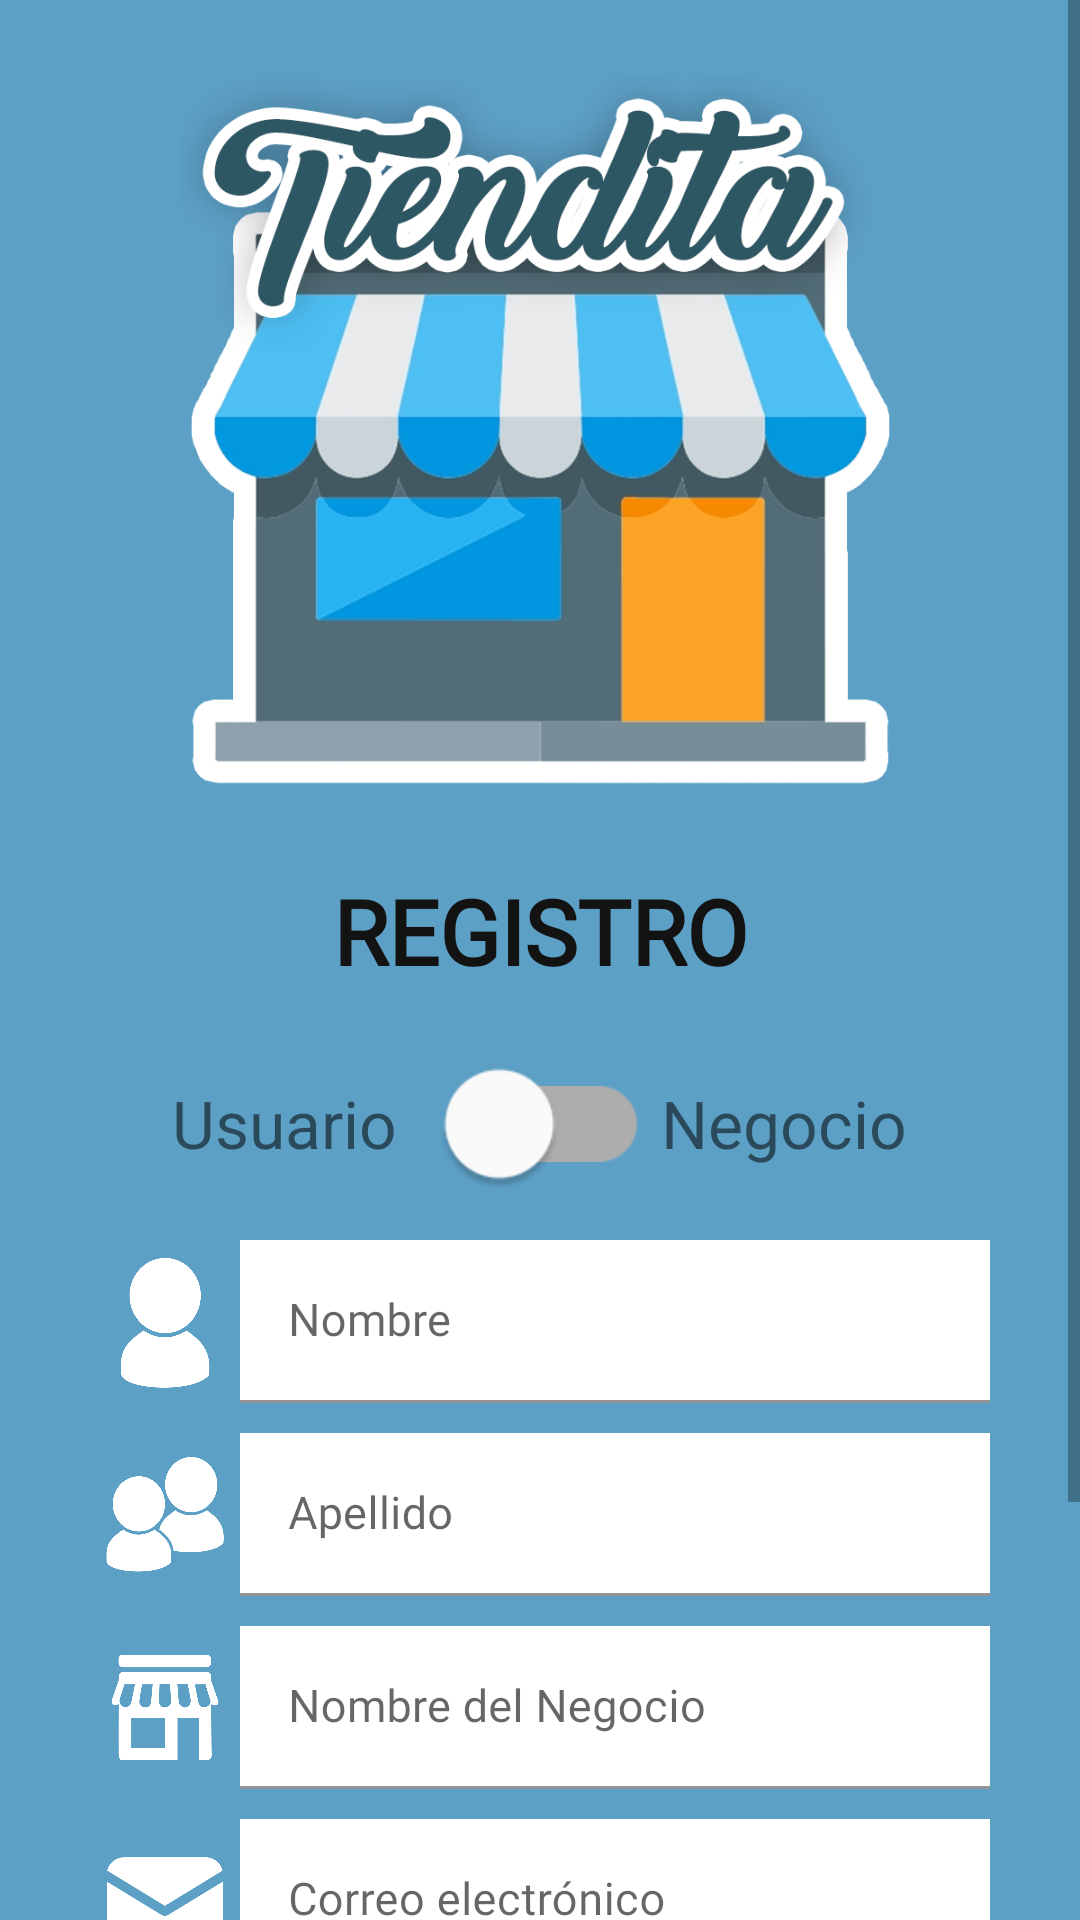

Locate icon controls on the screen. Image size 1080px×1920px, boxes as (x1=x1, y1=y1, x2=x2, y2=y2).
business: (x1=112, y1=1655, x2=219, y2=1760)
people: (x1=106, y1=1457, x2=224, y2=1572)
person: (x1=121, y1=1258, x2=210, y2=1388)
